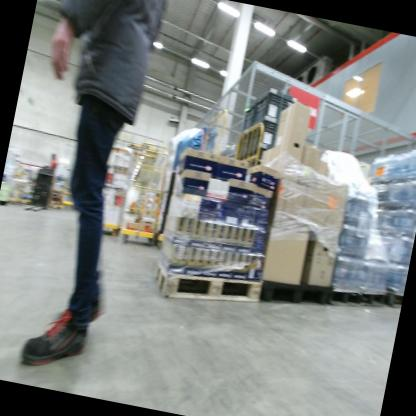pallet: (148, 250, 264, 314)
pallet_truck: (18, 160, 61, 223)
